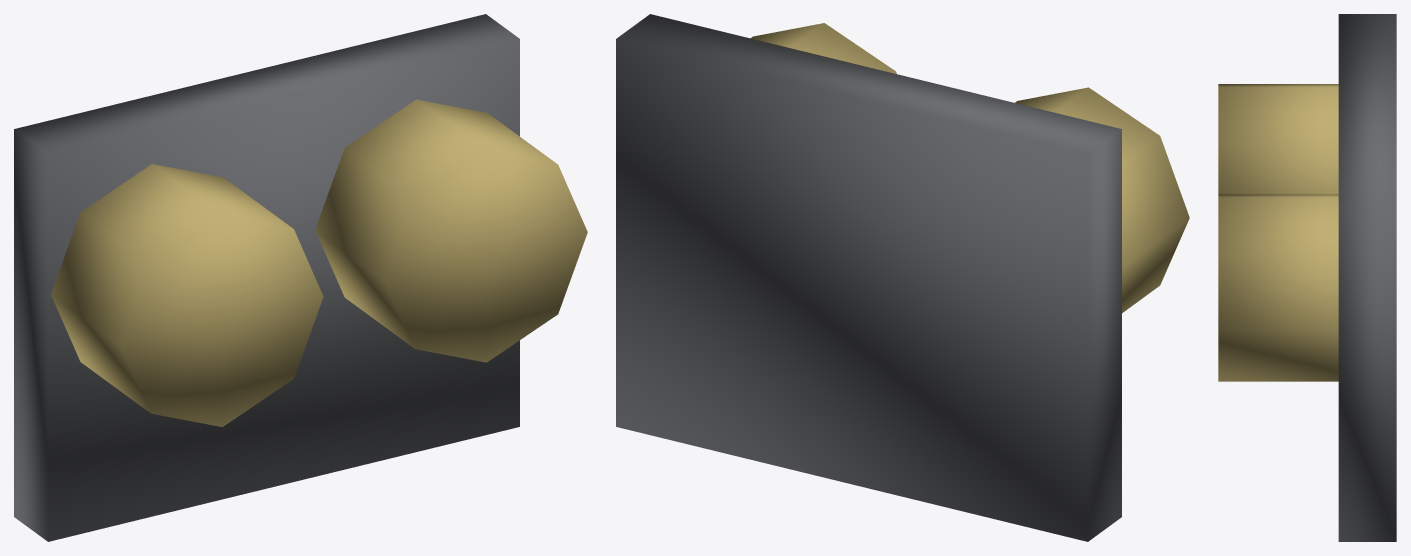
Rendered from emergency_light_pair_09.glb.
3 renders of one model, left to right at view 1: azimuth 30°, elevation 25°; view 2: azimuth 150°, elevation 25°; view 3: azimuth 270°, elevation 25°, orthographic. The views are drawn at different scales.
Visible parts, largest first — view 1: world; view 2: world; view 3: world.
Boxes of the visible parts, x1,y1,x2,y2 form: world: [14, 14, 587, 541]; world: [616, 14, 1189, 541]; world: [1218, 14, 1396, 541].
Size of the model in its own units: 0.28 by 0.22 by 0.1075.
